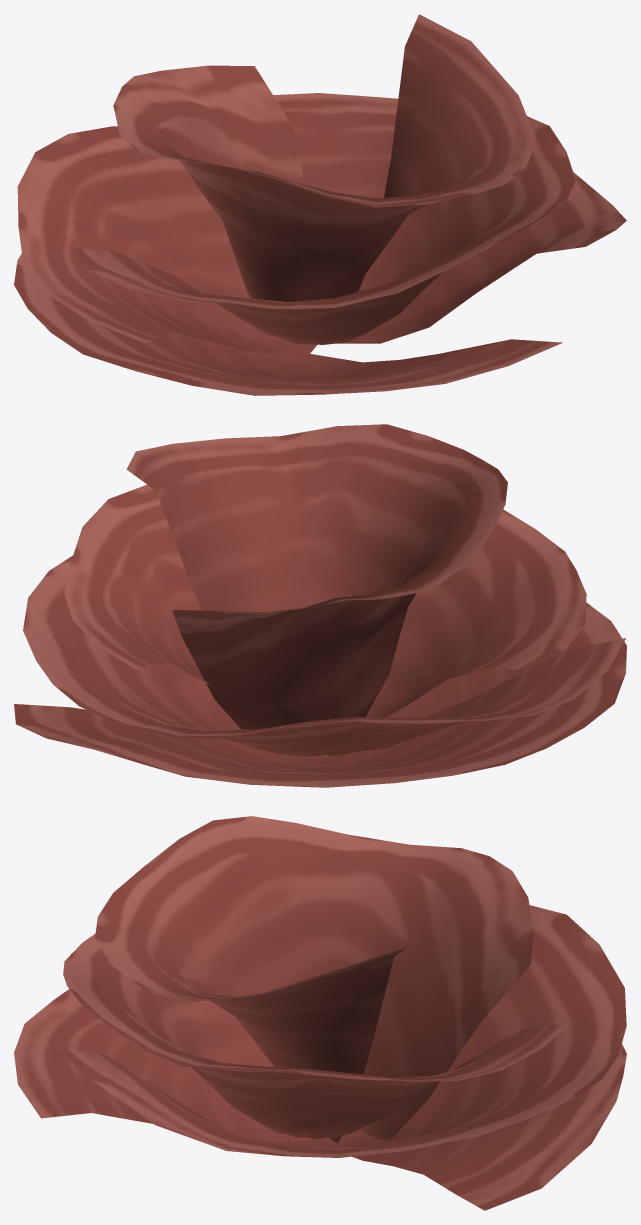
Rendered from coral3.fbx.
3 renders of one model, top to bottom at view 1: azimuth 30°, elevation 25°; view 2: azimuth 150°, elevation 25°; view 3: azimuth 270°, elevation 25°, orthographic. The views are drawn at different scales.
Parts seen in each view (by area): view 1: coral16; view 2: coral16; view 3: coral16.
Boxes of the visible parts, x1,y1,x2,y2 form: coral16: (14, 14, 626, 395); coral16: (14, 424, 626, 787); coral16: (14, 816, 626, 1210).
Size of the model in its own units: 3.63 by 1.79 by 3.61.
1 material, 1 textured.
